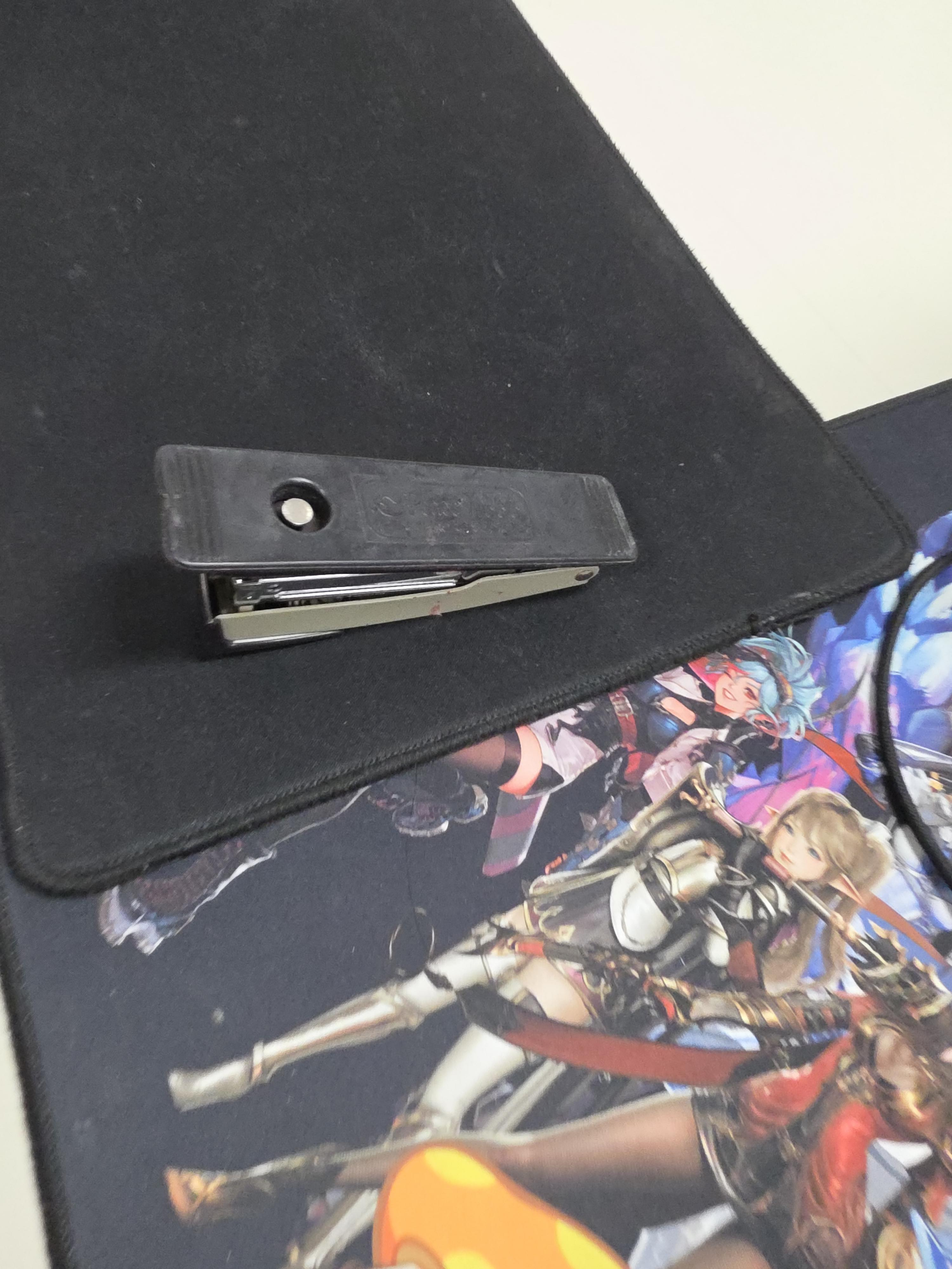stapler: (155, 444, 638, 651)
